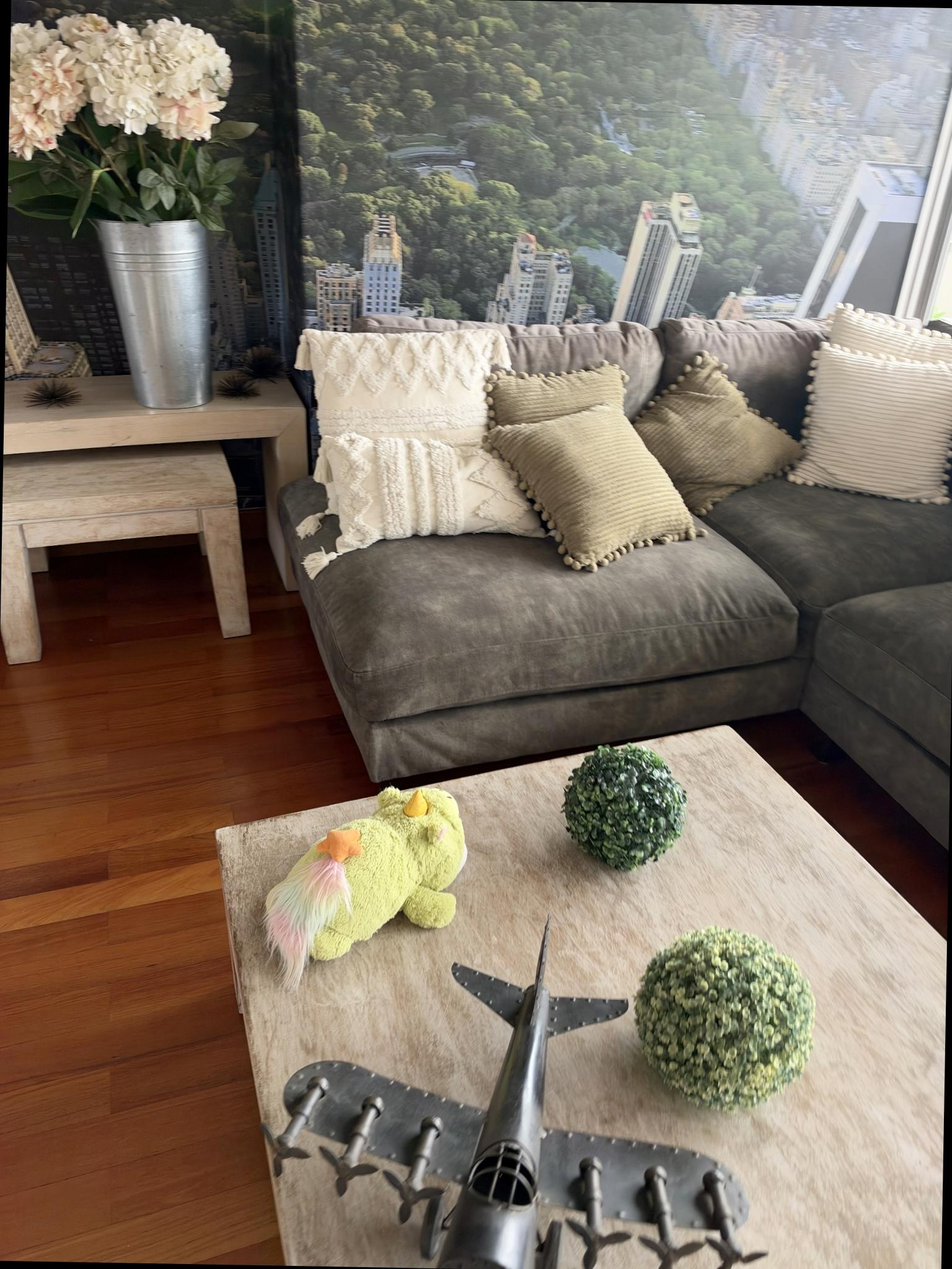peluche_martin: (261, 784, 470, 996)
